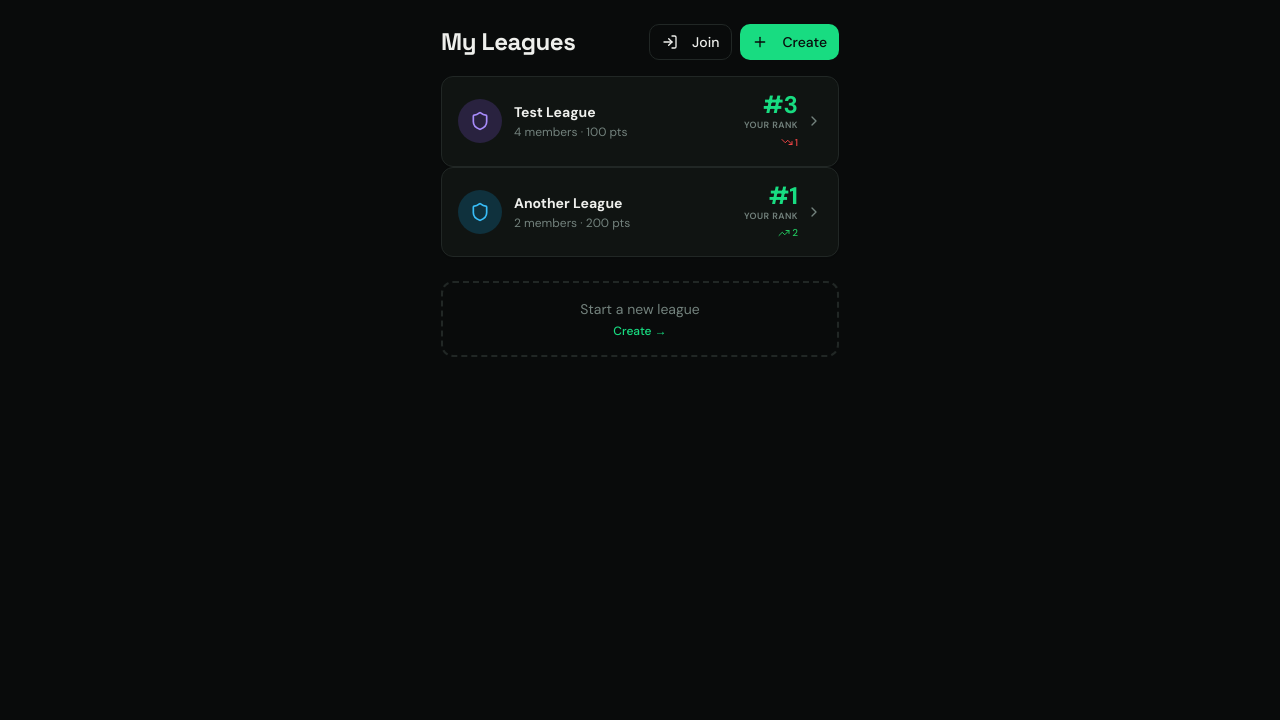
Test: LeaguesPage › shows error in join dialog on API failure
This screenshot has width=1280, height=720.
Check: the text "Test League" is shown, box [514,103,596,121]
Click the button "Join".
click(691, 42)  # box [649,24,732,60]
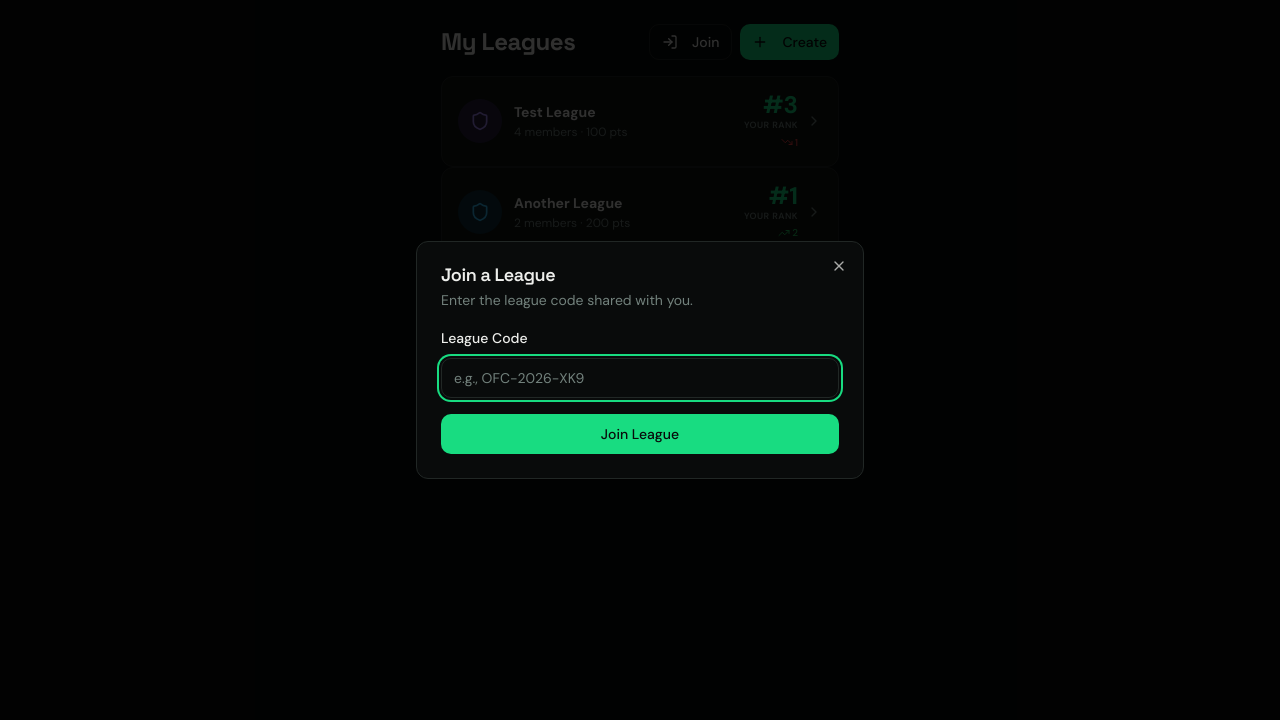
Type "BAD" into the field labelled "League Code".
click(640, 378); type("BAD")  # box [441,358,839,398]
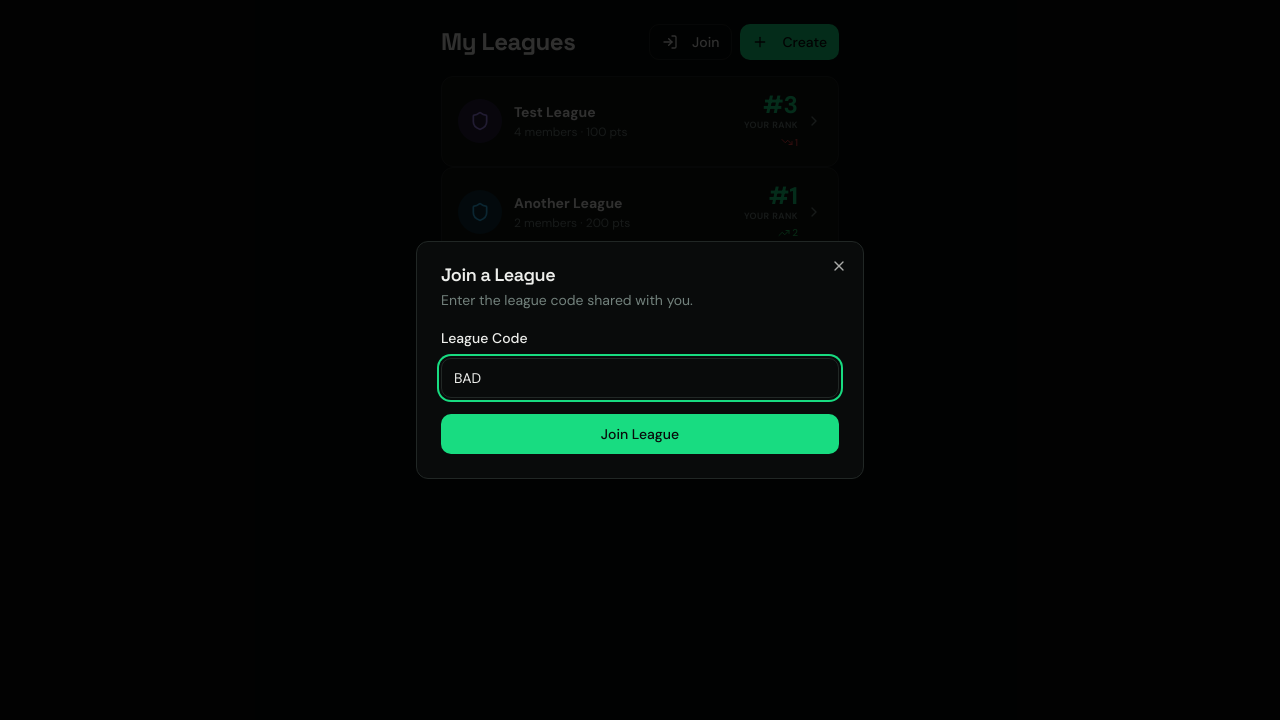
Click the button "Join League".
click(640, 434)  # box [441,414,839,454]
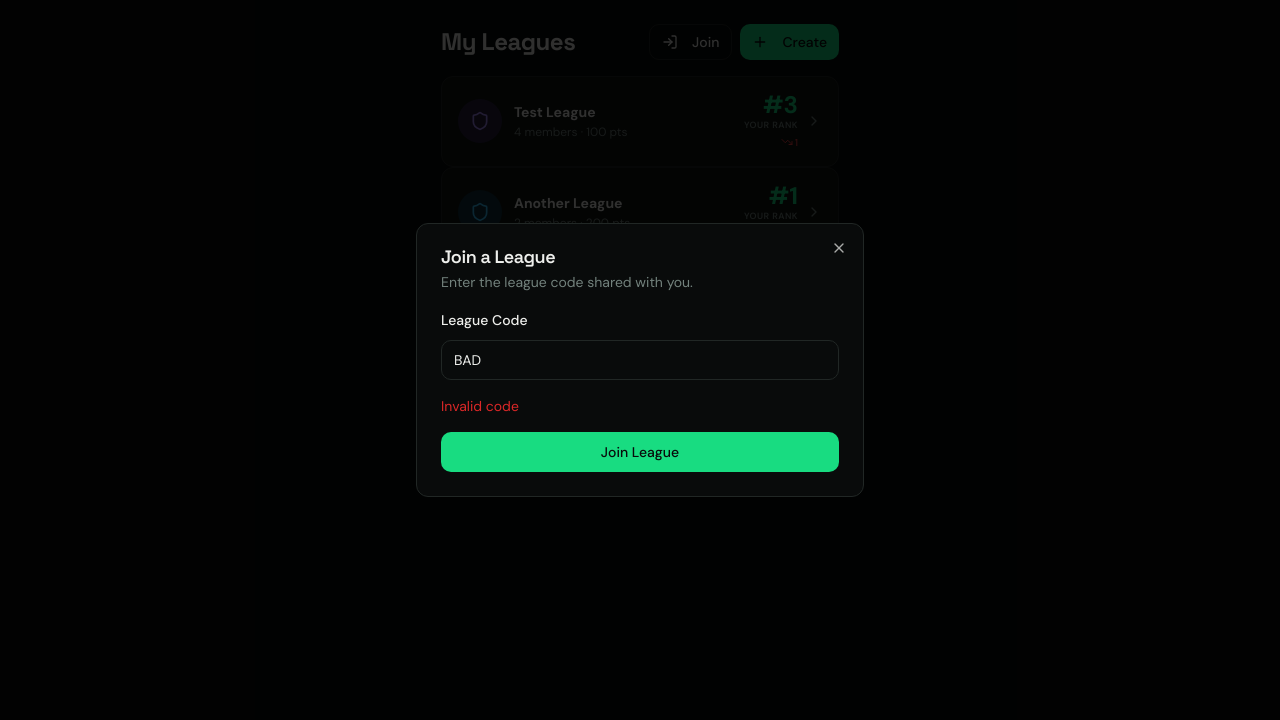
Check: the text "Invalid code" is shown, box [441,397,519,415]
